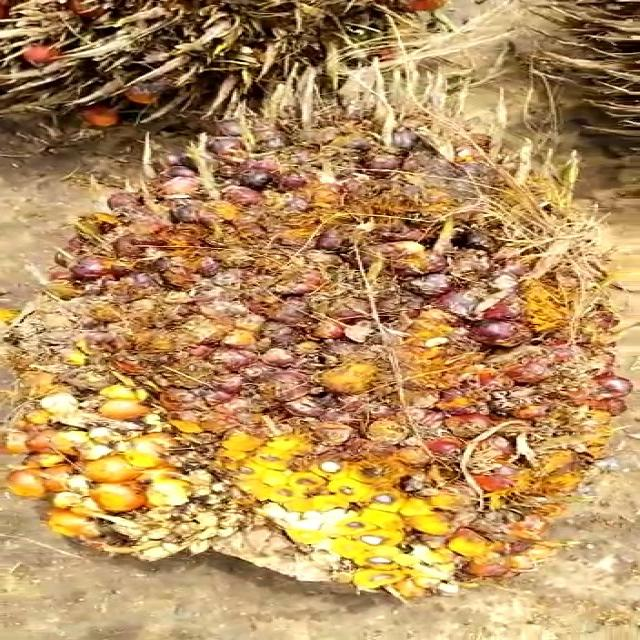palm oil: (19, 115, 631, 604)
